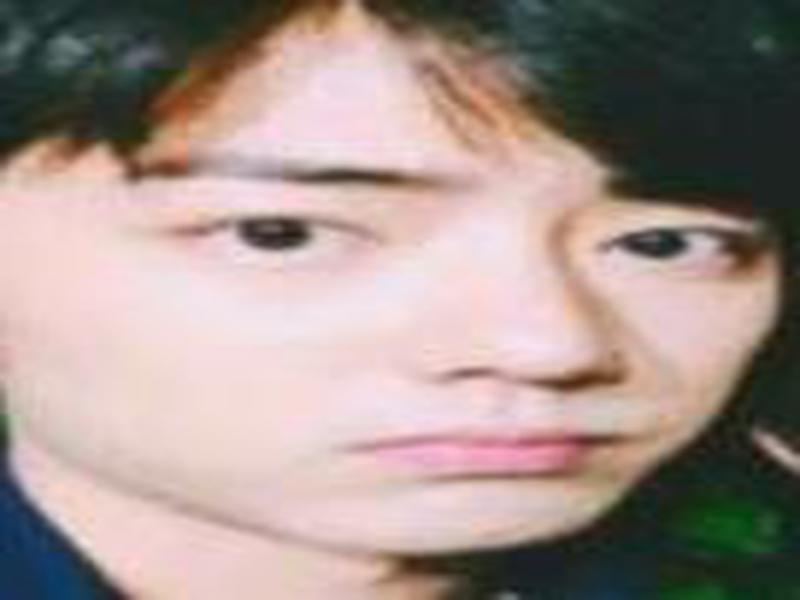without_mask: (6, 110, 782, 561)
